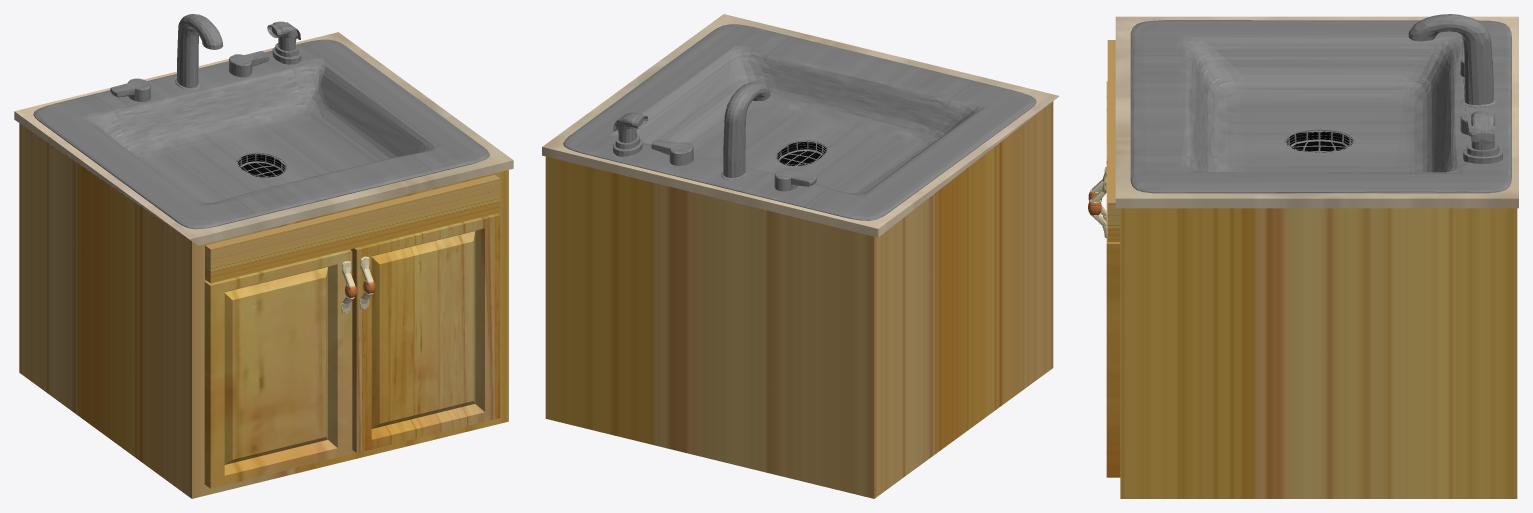
File: sh-contrib-kitchen-sink-with-marble.glb
The picture shows the model from 3 angles, left to right: view 1: azimuth 30°, elevation 25°; view 2: azimuth 150°, elevation 25°; view 3: azimuth 270°, elevation 25°; orthographic projection. The views are drawn at different scales.
Parts seen in each view (by area): view 1: PolyMesh_1_1, PolyMesh_2, PolyMesh_1_7, Spline_Mesh_4, Drain; view 2: PolyMesh_1_1, PolyMesh_2, PolyMesh_1_7, Drain; view 3: PolyMesh_1_1, PolyMesh_2, PolyMesh_1_7, Drain, Spline_Mesh_4.
Part boxes in pixels (x1=…): PolyMesh_1_1: x1=19, y1=123, x2=508, y2=498; PolyMesh_2: x1=33, y1=14, x2=489, y2=229; PolyMesh_1_7: x1=14, y1=32, x2=513, y2=245; Spline_Mesh_4: x1=341, y1=256, x2=373, y2=313; Drain: x1=238, y1=154, x2=284, y2=177; PolyMesh_1_1: x1=545, y1=101, x2=1053, y2=498; PolyMesh_2: x1=563, y1=24, x2=1036, y2=220; PolyMesh_1_7: x1=542, y1=14, x2=1059, y2=237; Drain: x1=777, y1=142, x2=826, y2=165; PolyMesh_1_1: x1=1106, y1=40, x2=1517, y2=498; PolyMesh_2: x1=1130, y1=14, x2=1511, y2=193; PolyMesh_1_7: x1=1115, y1=16, x2=1518, y2=208; Drain: x1=1287, y1=131, x2=1352, y2=152; Spline_Mesh_4: x1=1089, y1=167, x2=1106, y2=237.
Bounding box in the file's own units: 1 × 1 × 0.9999.
6 materials, 4 textured.
